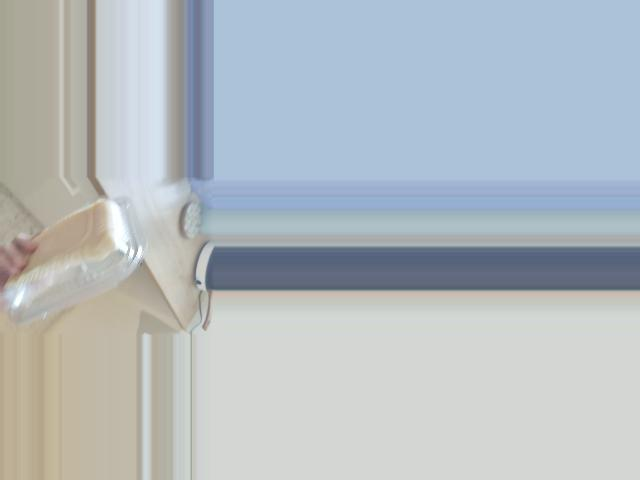cheese: (53, 213, 131, 303)
